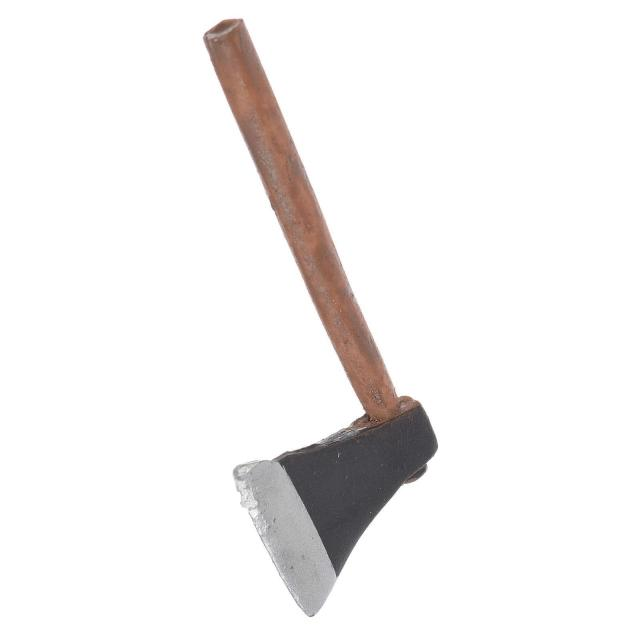Kapak: (196, 16, 450, 586)
